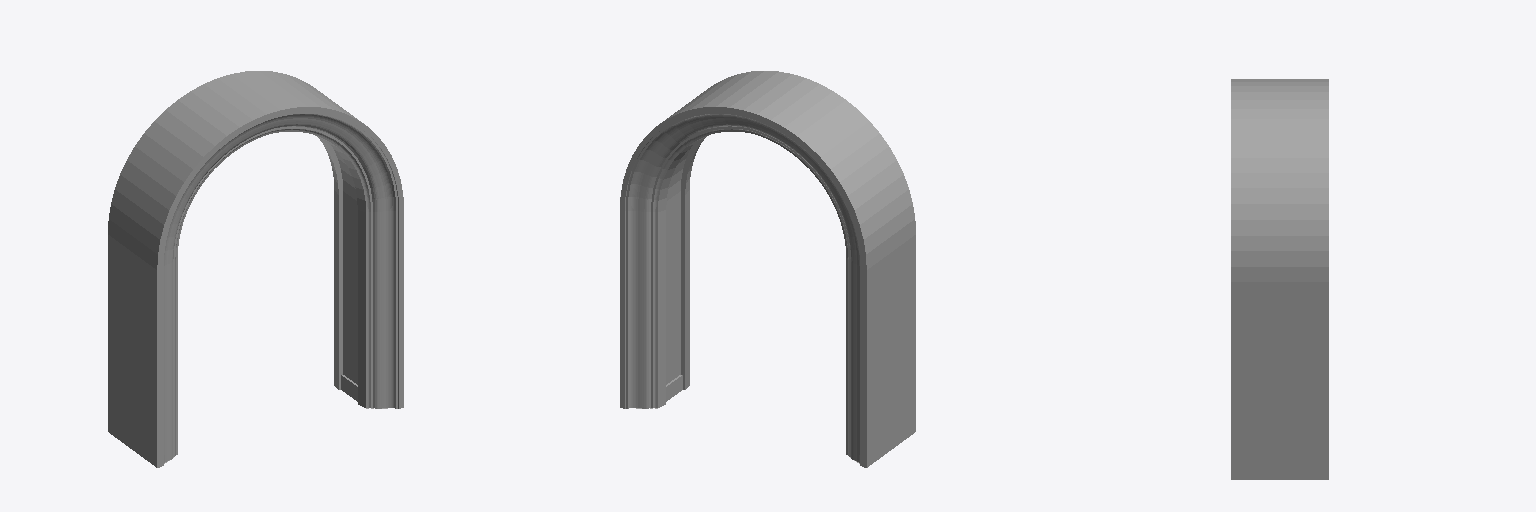
Rendered from Arch.obj.
3 views of the same model, side by side, from view 1: azimuth 30°, elevation 25°; view 2: azimuth 150°, elevation 25°; view 3: azimuth 270°, elevation 25° (orthographic).
Visible parts, largest first — view 1: Arch_Arc.001; view 2: Arch_Arc.001; view 3: Arch_Arc.001.
Part boxes in pixels (bbox=[...]): Arch_Arc.001: bbox=[108, 71, 403, 467]; Arch_Arc.001: bbox=[620, 71, 915, 467]; Arch_Arc.001: bbox=[1231, 79, 1328, 479].
Size of the model in its own units: 1.54 by 1.95 by 0.5331.